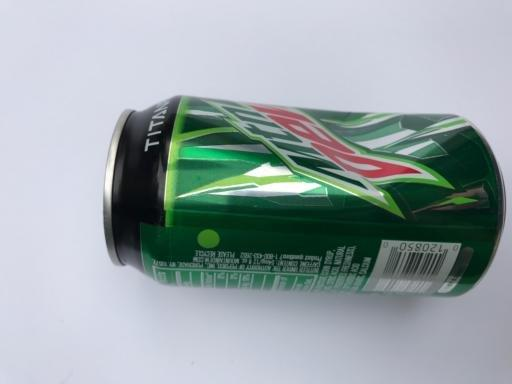kaleng: (102, 95, 506, 296)
